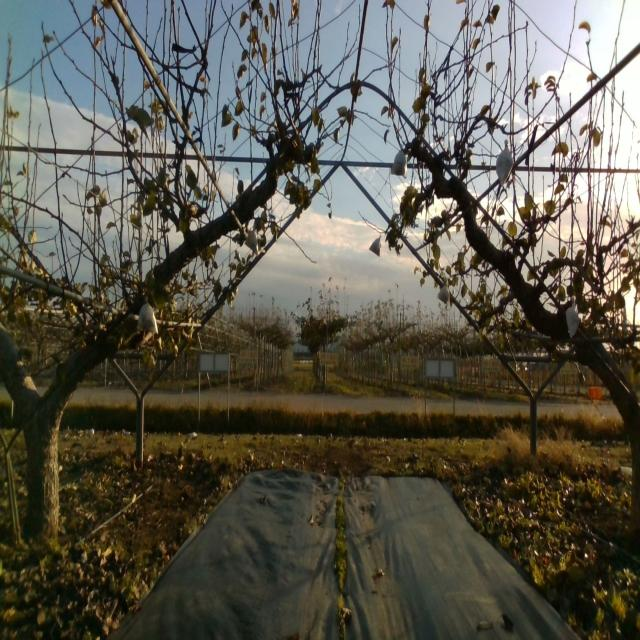pearbags: (134, 295, 158, 337), (496, 138, 514, 188), (565, 294, 581, 336), (390, 149, 407, 179), (437, 281, 453, 309), (245, 225, 259, 253), (369, 235, 382, 258)
